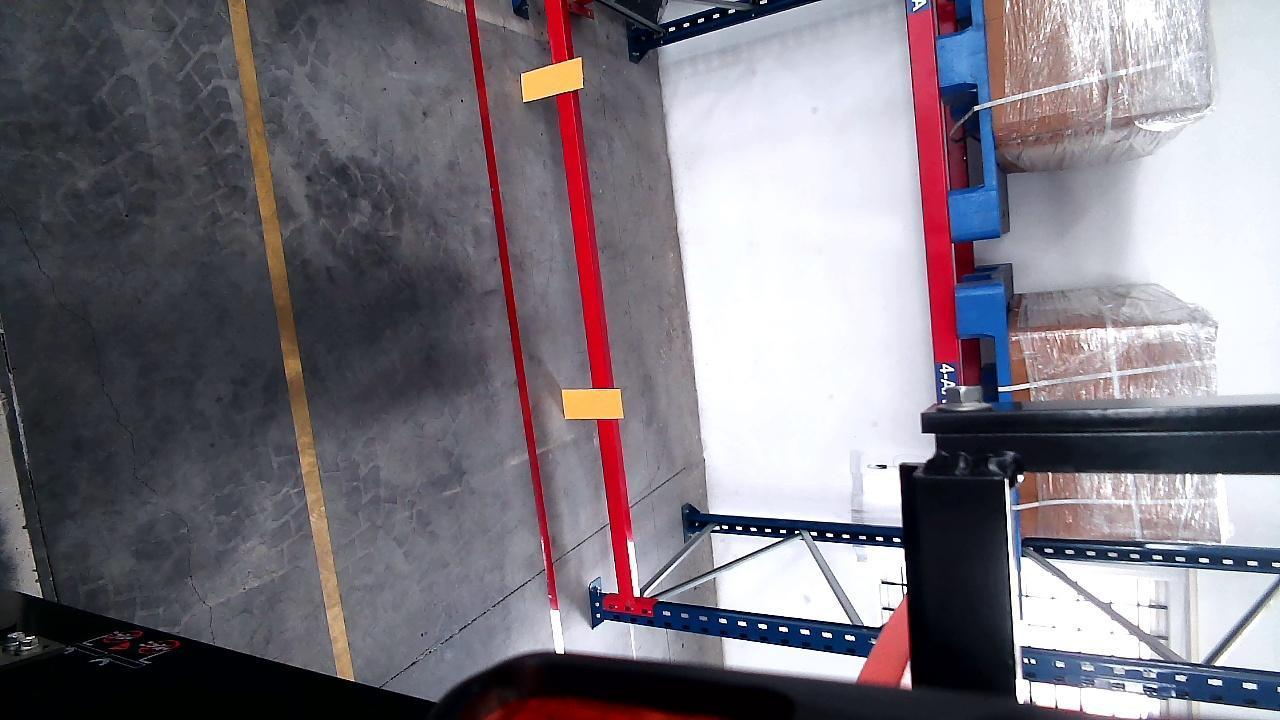h_rack: (548, 9, 636, 616), (908, 0, 958, 402), (1016, 655, 1280, 708)
orange_strip: (521, 56, 584, 102), (563, 387, 622, 420)
red_line: (470, 0, 556, 620)
small_pallet: (919, 0, 976, 314), (934, 0, 998, 221), (955, 286, 1011, 399)
yellow_line: (218, 0, 368, 694)
